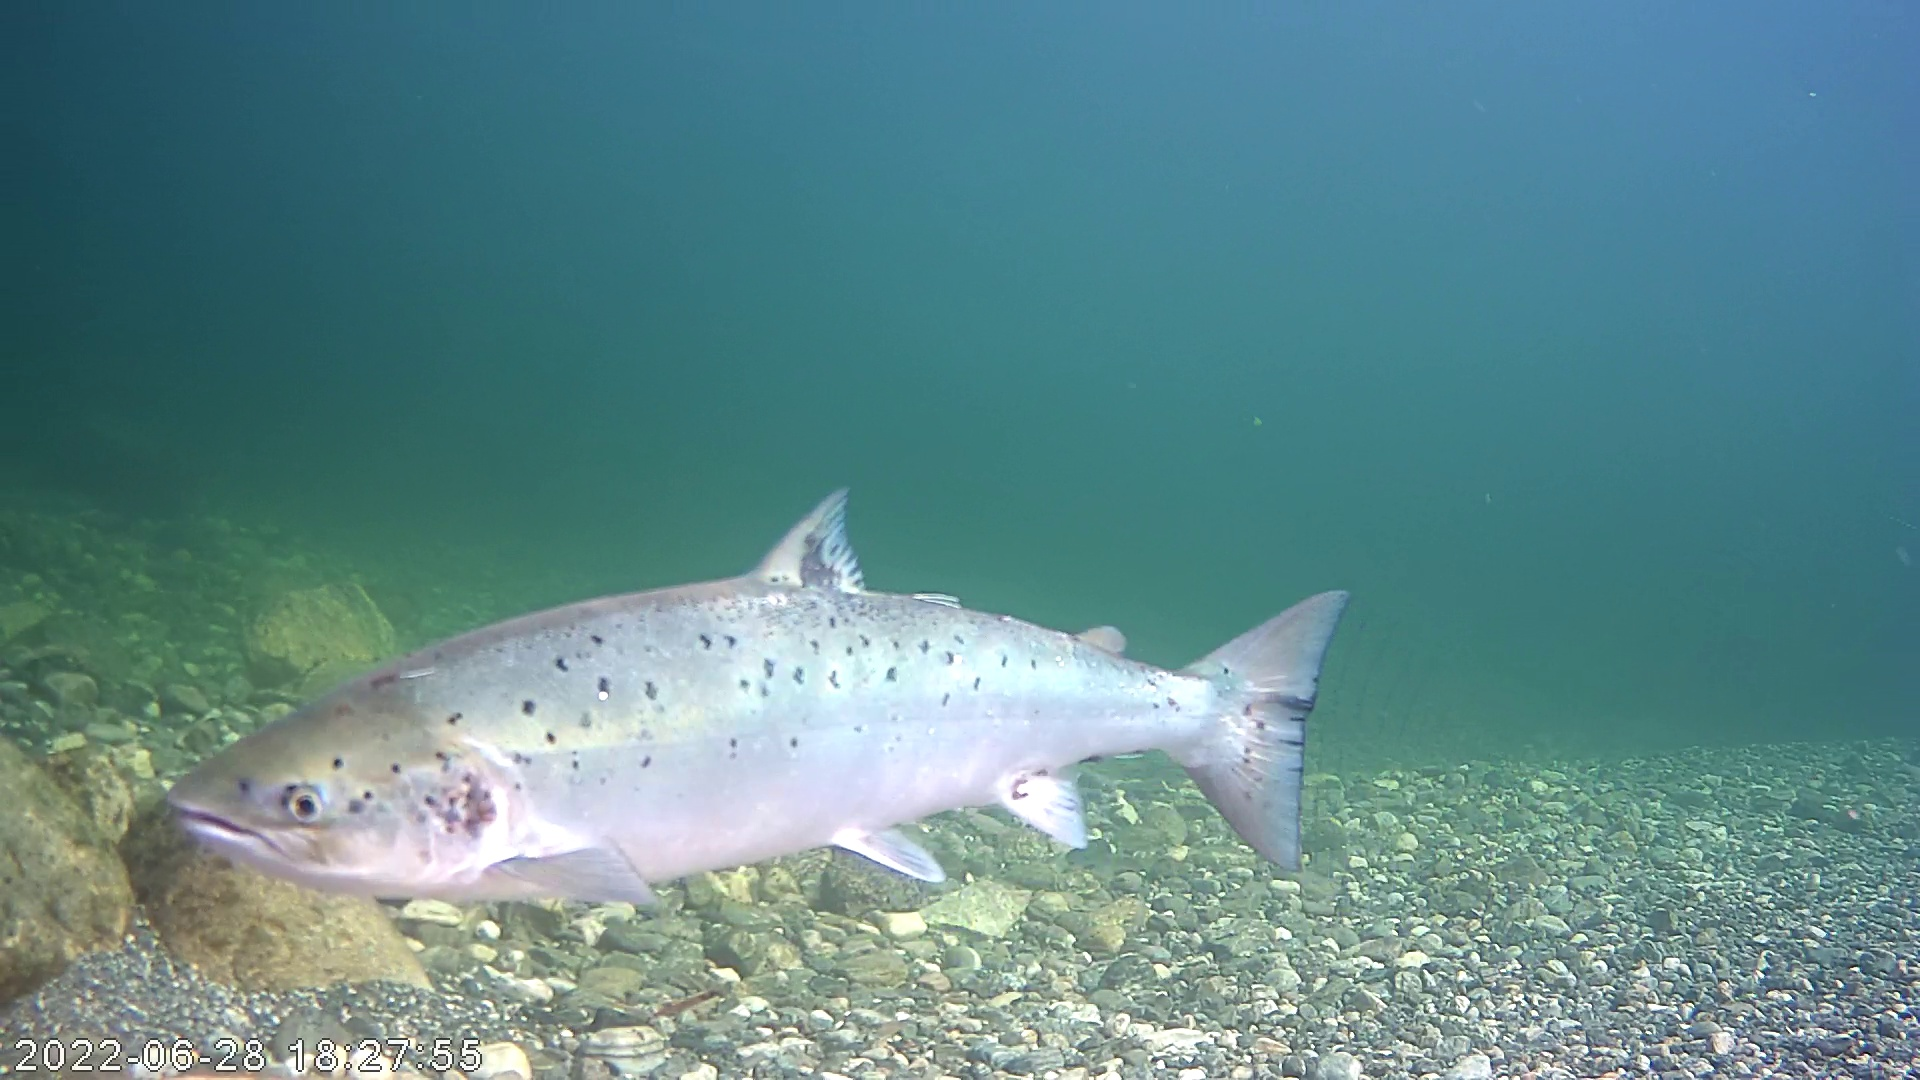salmon: (256, 443, 1362, 932)
